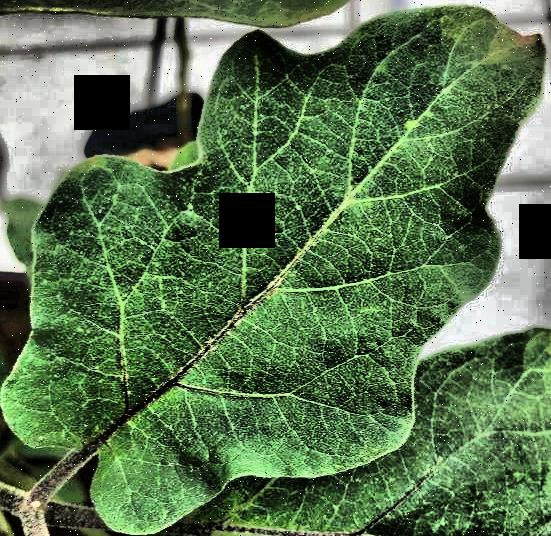HEALTHY: (1, 0, 551, 536)
